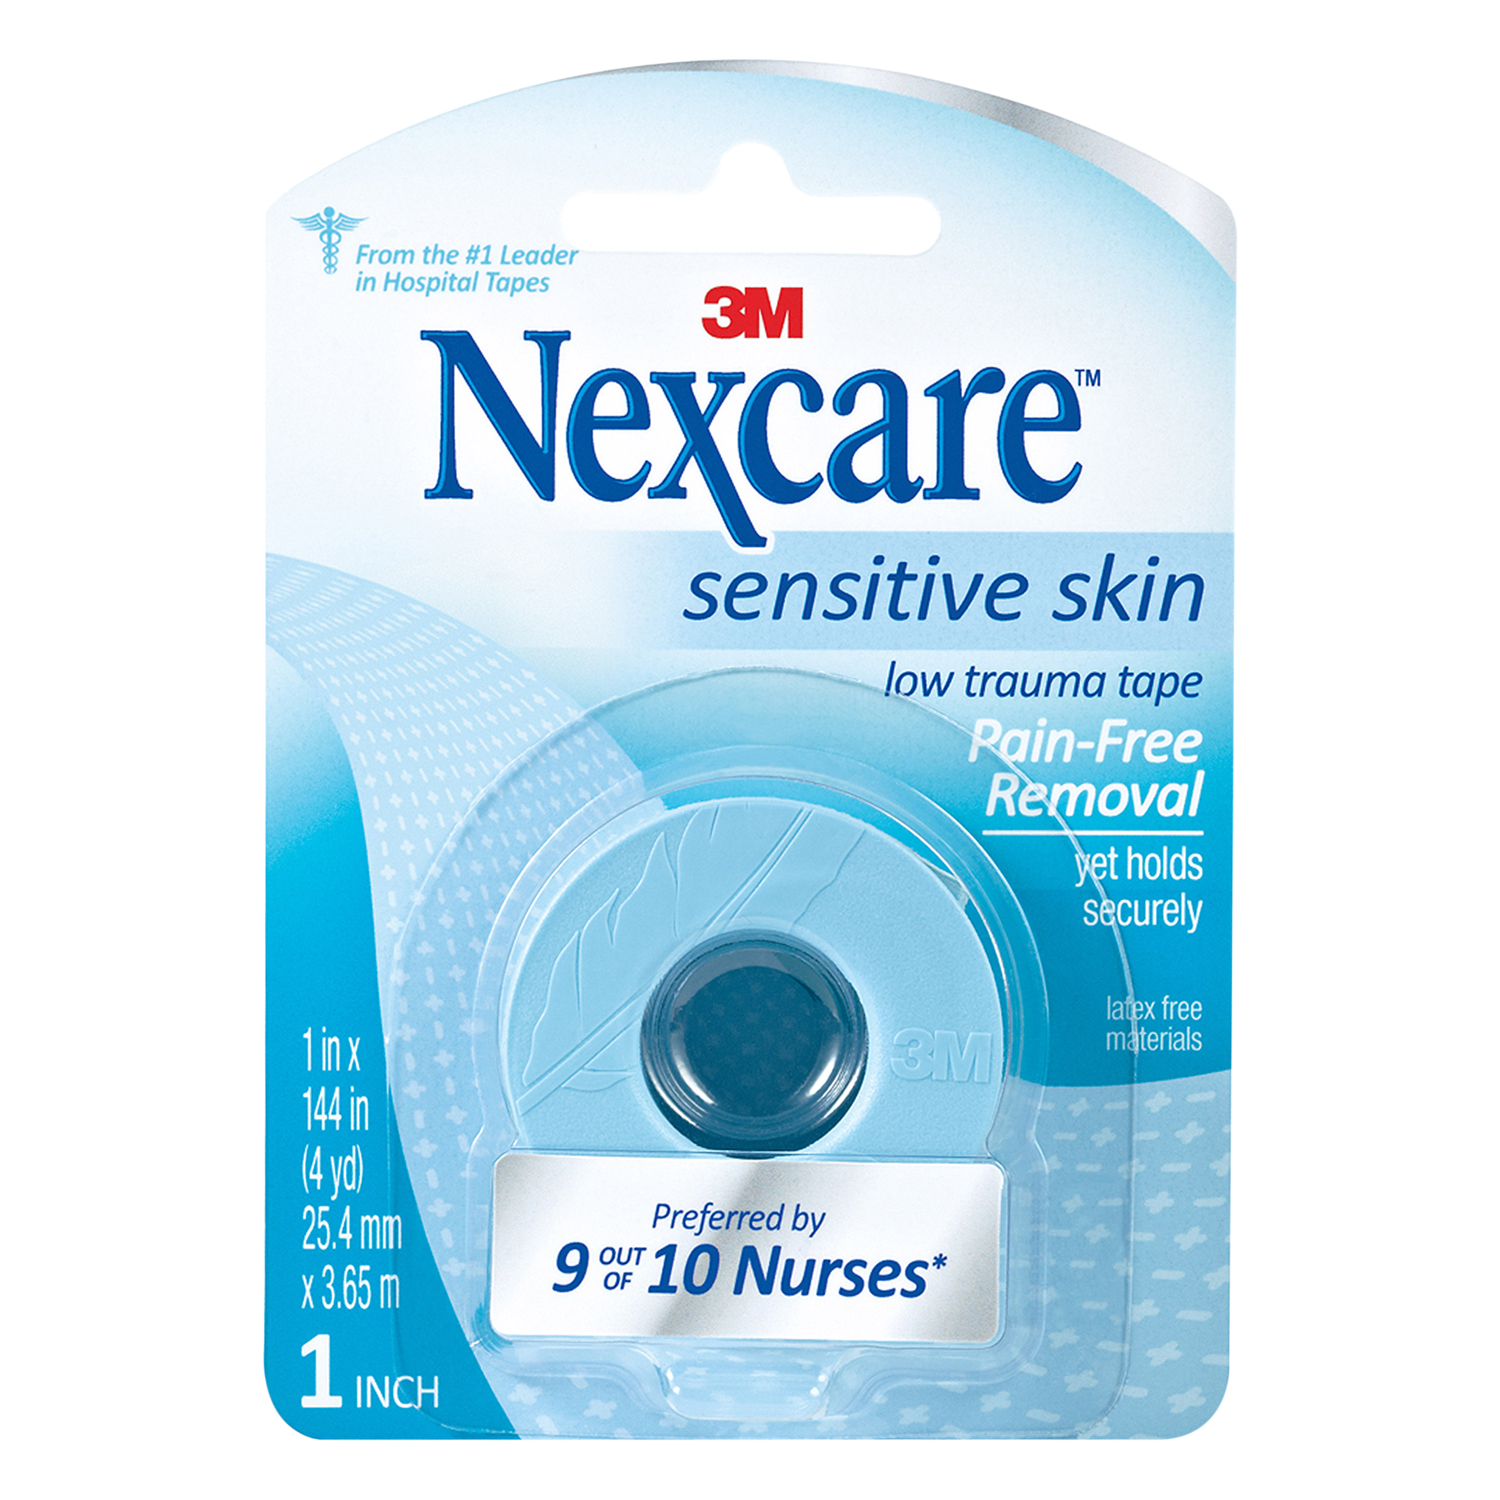3M: (691, 275, 815, 349)
